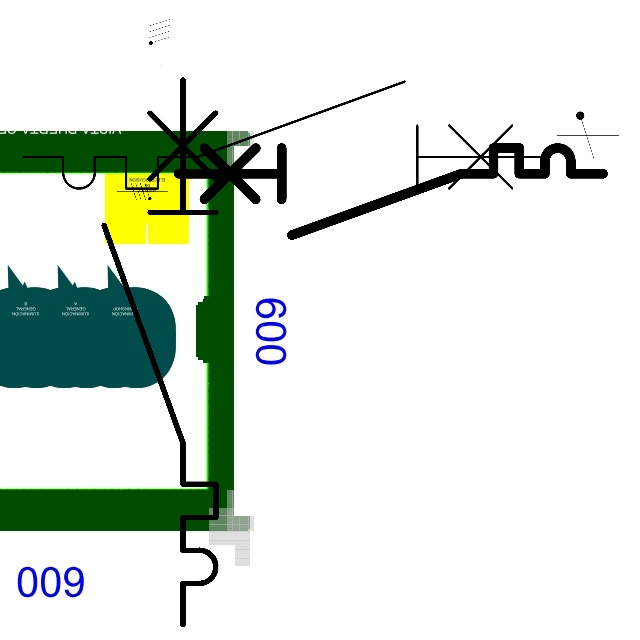interruptor_termomagnetico: (90, 65, 230, 638), (10, 68, 557, 202), (167, 137, 614, 246)
